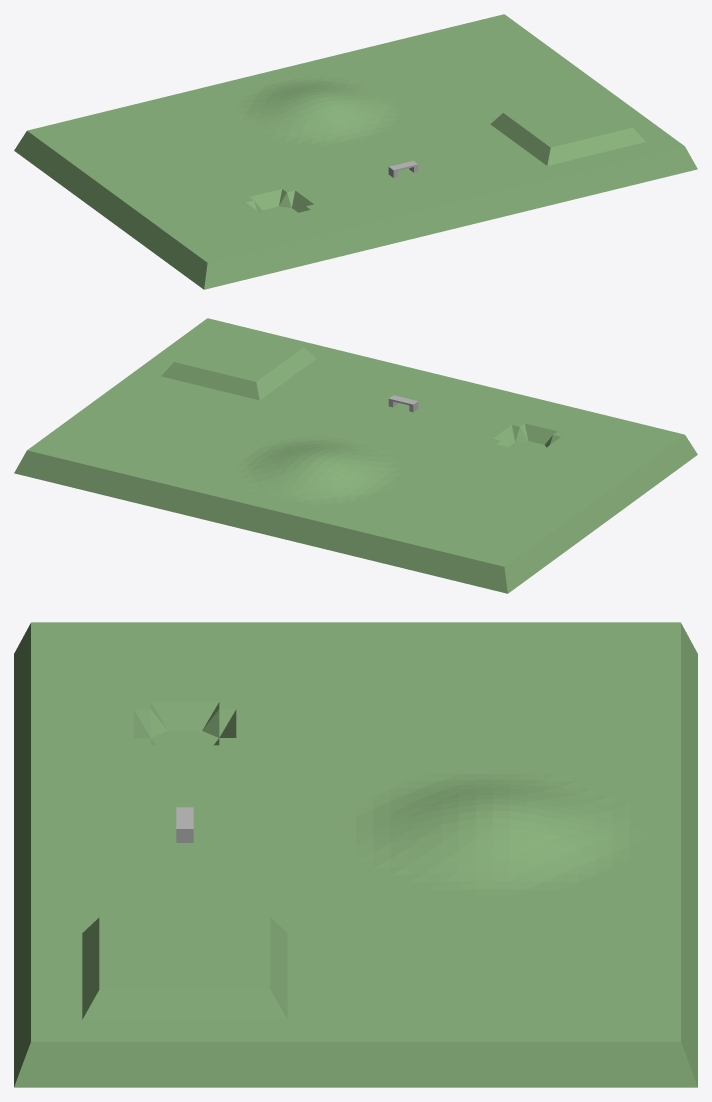
Rendered from ground.glb.
3 views of the same model, one above another, from view 1: azimuth 30°, elevation 25°; view 2: azimuth 150°, elevation 25°; view 3: azimuth 270°, elevation 25° (orthographic). The views are drawn at different scales.
Visible parts, largest first — view 1: Island; view 2: Island; view 3: Island.
Boxes of the visible parts, x1,y1,x2,y2 form: Island: (14, 14, 697, 289); Island: (14, 318, 697, 593); Island: (14, 622, 697, 1087).
Size of the model in its own units: 1200 by 80 by 800.
